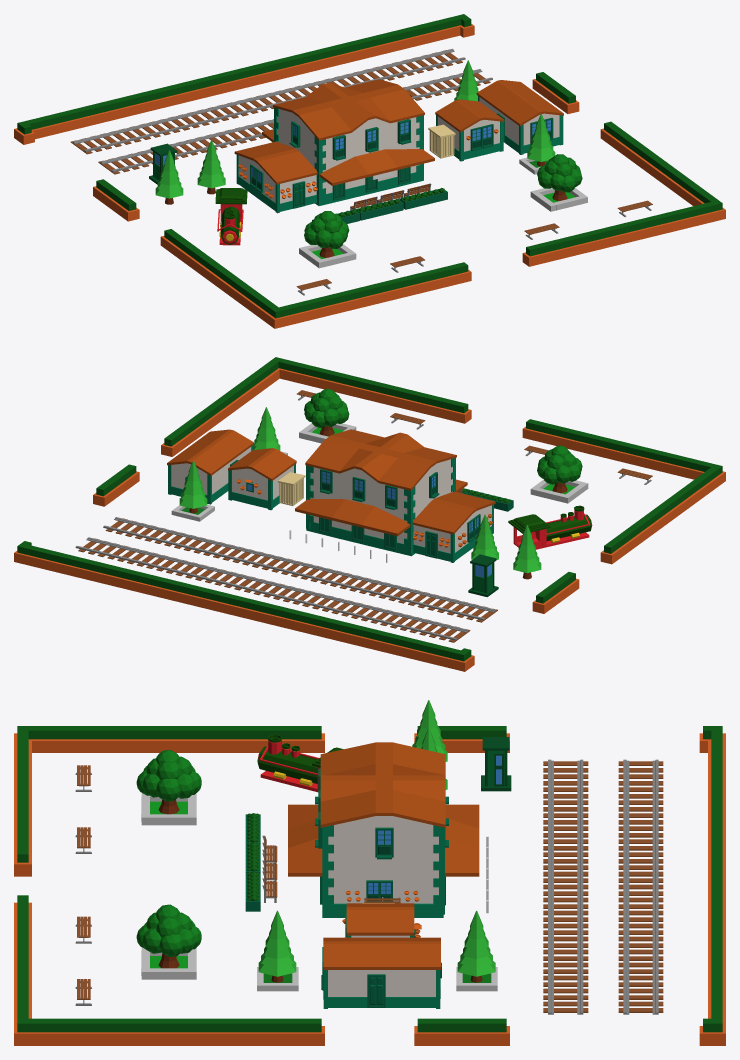
File: Usaquen01.glb
3 views of the same model, one above another, from view 1: azimuth 30°, elevation 25°; view 2: azimuth 150°, elevation 25°; view 3: azimuth 270°, elevation 25° (orthographic). The views are drawn at different scales.
Visible parts, largest first — view 1: Cube.466, Cube.569, Cube.554, central usaquen, Cube.469, Cube.470, Cube.552, Cube.512, Cube.465, Cube.553, Cube.467, Cube.564 (+11 smaller); view 2: Cube.466, Cube.569, Cube.554, central usaquen, Cube.467, Cube.469, Cube.468, Cube.470, Cube.552, tren, Cube.512, Cube.465 (+11 smaller); view 3: Cube.466, Cube.554, central usaquen, Cube.469, Cube.467, Cube.569, Cube.552, Cube.465, Cube.512, Cube.470, Cube.516, Cube.468 (+12 smaller).
Boxes of the visible parts, x1,y1,x2,y2 form: Cube.466: (160, 121, 725, 328); Cube.569: (14, 14, 474, 144); Cube.554: (273, 79, 424, 140); central usaquen: (277, 109, 423, 205); Cube.469: (70, 50, 462, 154); Cube.470: (73, 48, 465, 151); Cube.552: (262, 129, 434, 185); Cube.512: (476, 80, 563, 126); Cube.465: (93, 72, 579, 221); Cube.553: (234, 141, 317, 184); Cube.467: (98, 70, 490, 174); Cube.564: (236, 155, 316, 212); Cube.466: (161, 357, 725, 564); Cube.569: (14, 541, 474, 671); Cube.554: (305, 429, 456, 490); central usaquen: (306, 459, 452, 556); Cube.467: (105, 518, 497, 622); Cube.469: (78, 538, 470, 642); Cube.468: (103, 517, 495, 620); Cube.470: (75, 537, 468, 640); Cube.552: (295, 479, 467, 536); tren: (508, 505, 592, 549); Cube.512: (167, 429, 253, 475); Cube.465: (93, 464, 579, 613); Cube.466: (14, 726, 324, 1045); Cube.554: (320, 742, 445, 827); central usaquen: (322, 816, 443, 917); Cube.469: (618, 761, 663, 1012); Cube.467: (543, 761, 588, 1012); Cube.569: (699, 726, 725, 1045); Cube.552: (288, 804, 479, 876); Cube.465: (414, 726, 509, 1045); Cube.512: (323, 937, 440, 969); Cube.470: (623, 759, 658, 1014); Cube.516: (323, 970, 440, 1007); Cube.468: (548, 759, 583, 1014).
Size of the model in its own units: 32.22 by 5.37 by 32.27.
